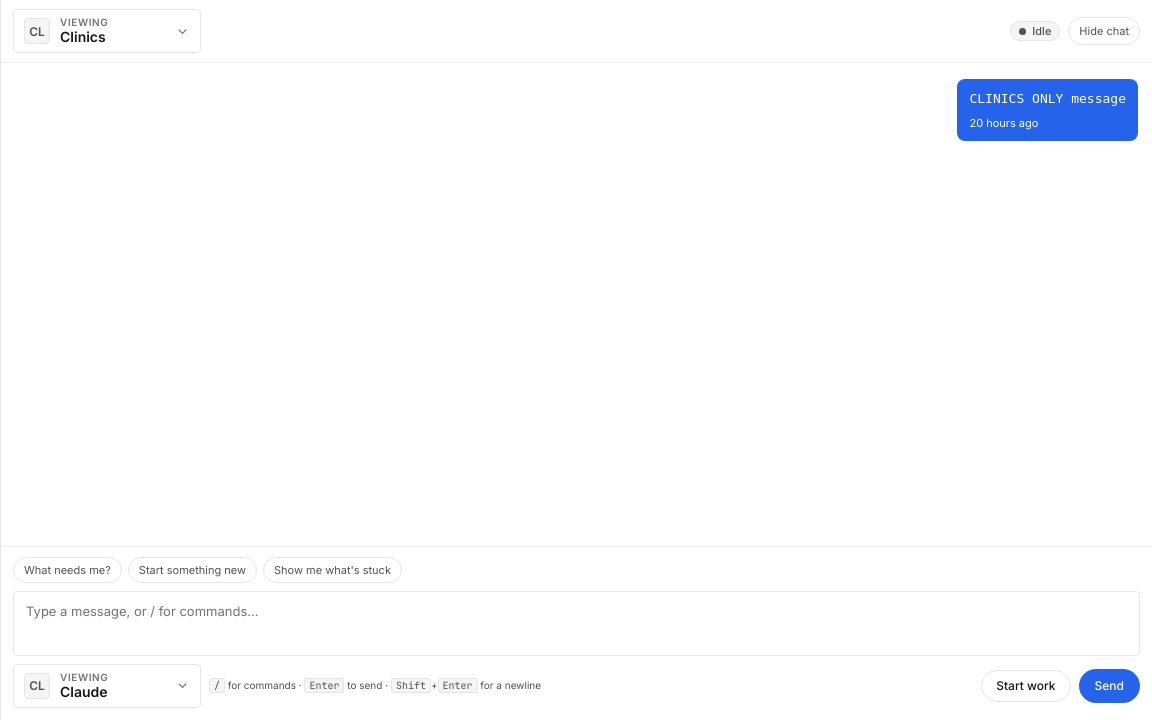
Test: <ProductChatDock> switching product swaps the conversation › shows the active product's history and swaps it on switch (no blend)
Expected: the text "CLINICS ONLY message" is shown, [970,91,1126,106]
Expected: the text "BAKERY ONLY message" is not shown
Click the button with test id "dock-switcher-trigger" at (107, 31), box [13,9,201,53]
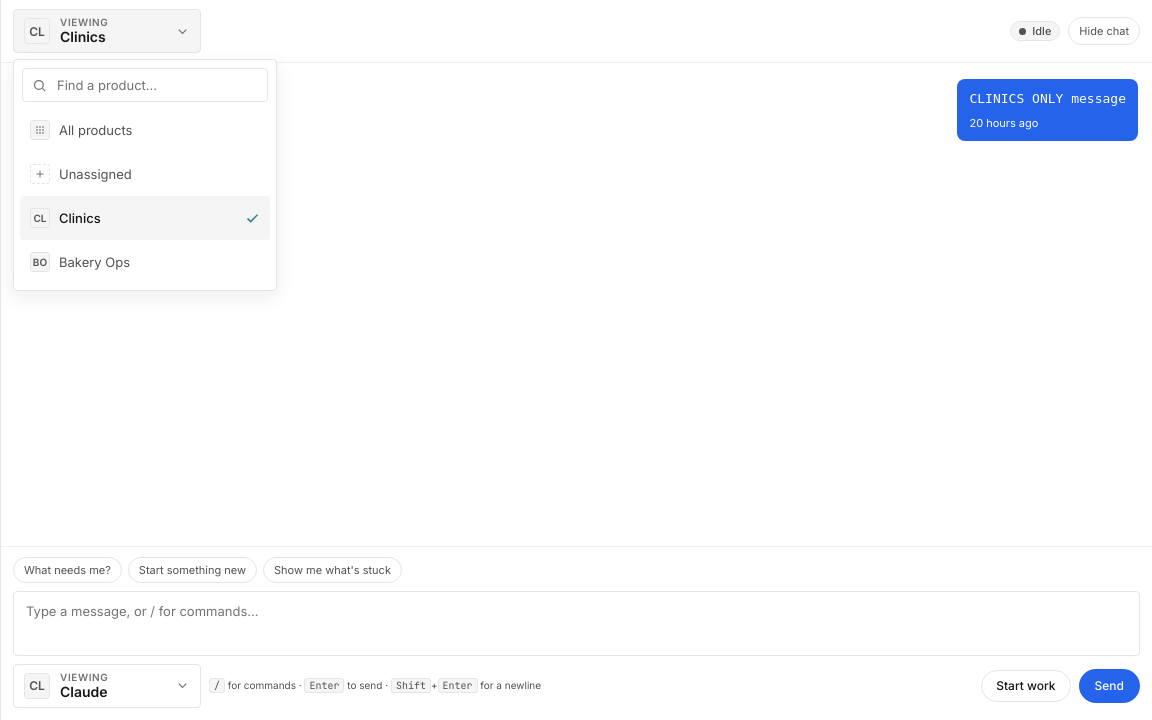
Click the menu item "BO Bakery Ops" at (145, 262), box [20,240,270,284]
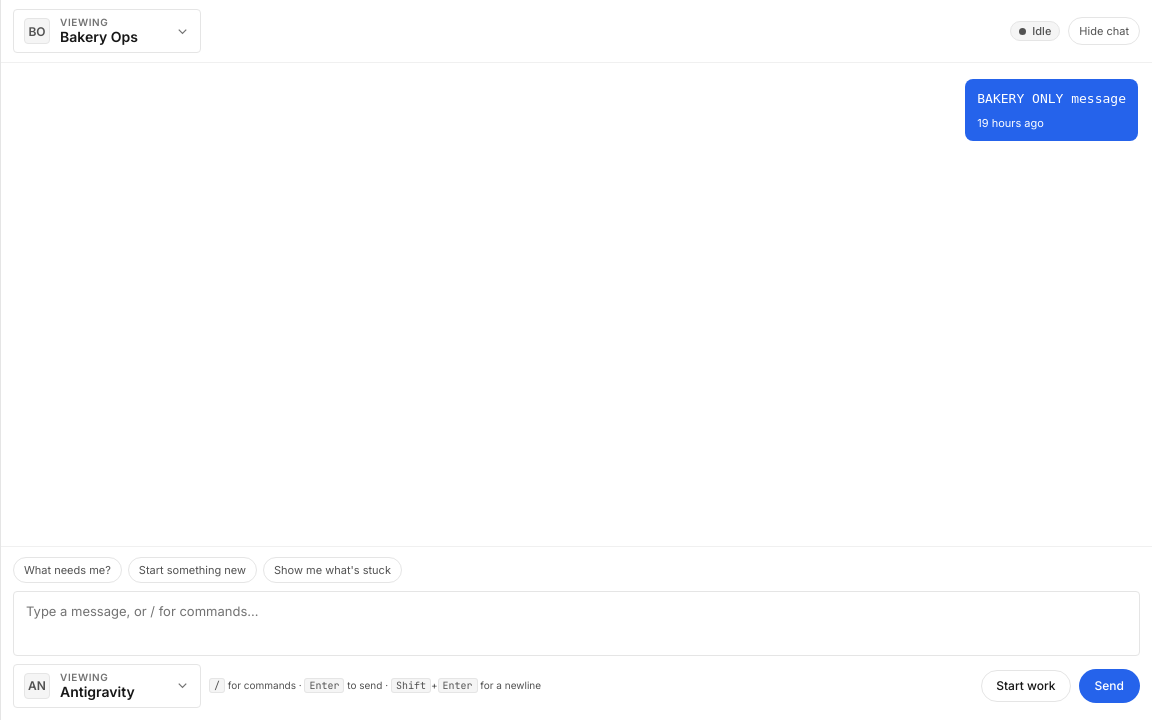
Expected: the text "BAKERY ONLY message" is shown, [977,91,1126,106]
Expected: the text "CLINICS ONLY message" is gone
Click the button with test id "dock-switcher-trigger" at (107, 31), box [13,9,201,53]
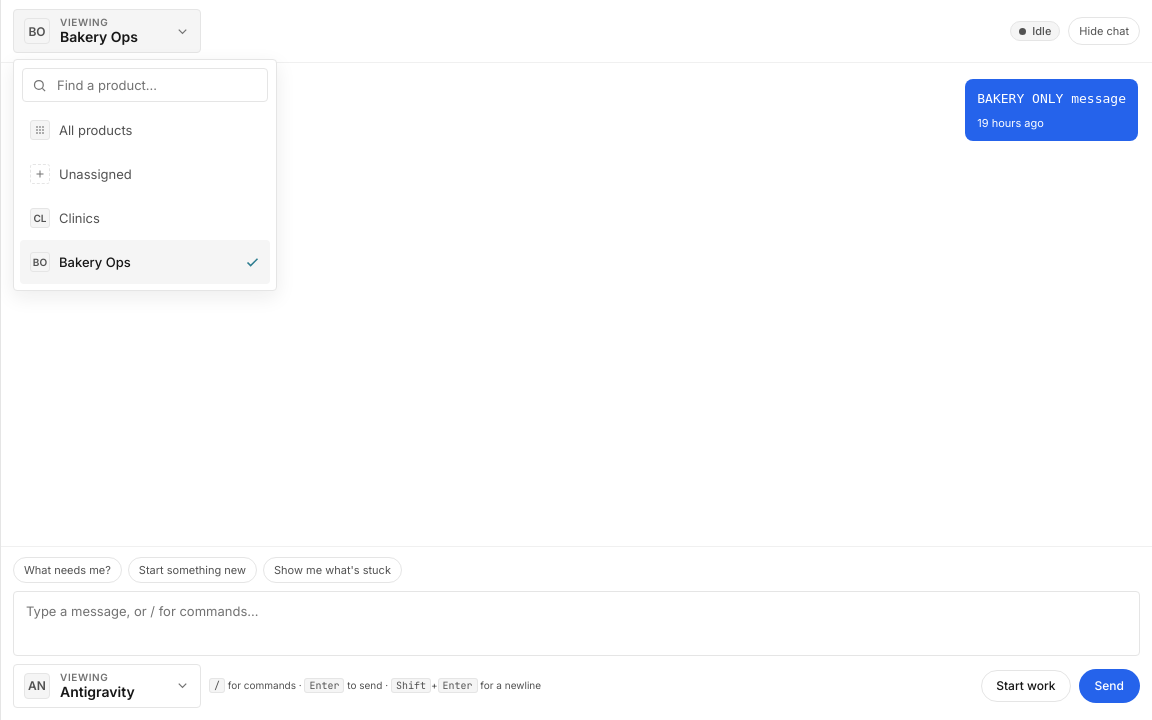
Click the menu item "CL Clinics" at (145, 218), box [20,196,270,240]
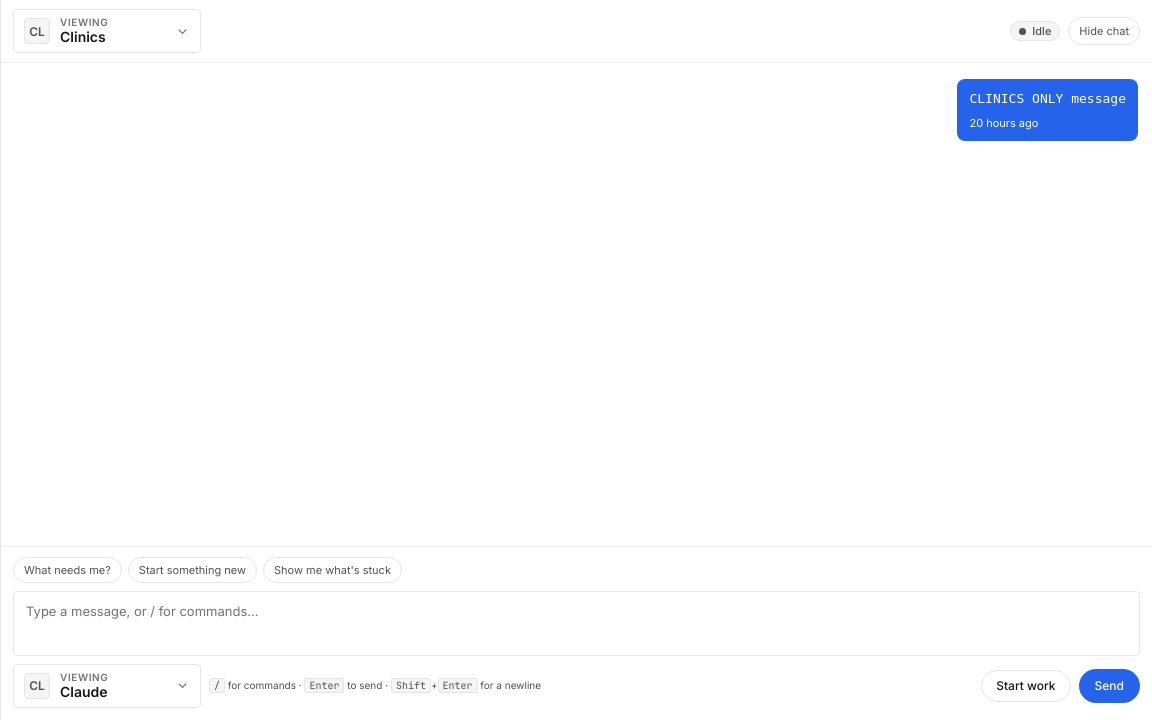
Expected: the text "CLINICS ONLY message" is shown, [970,91,1126,106]
Expected: the text "BAKERY ONLY message" is gone
